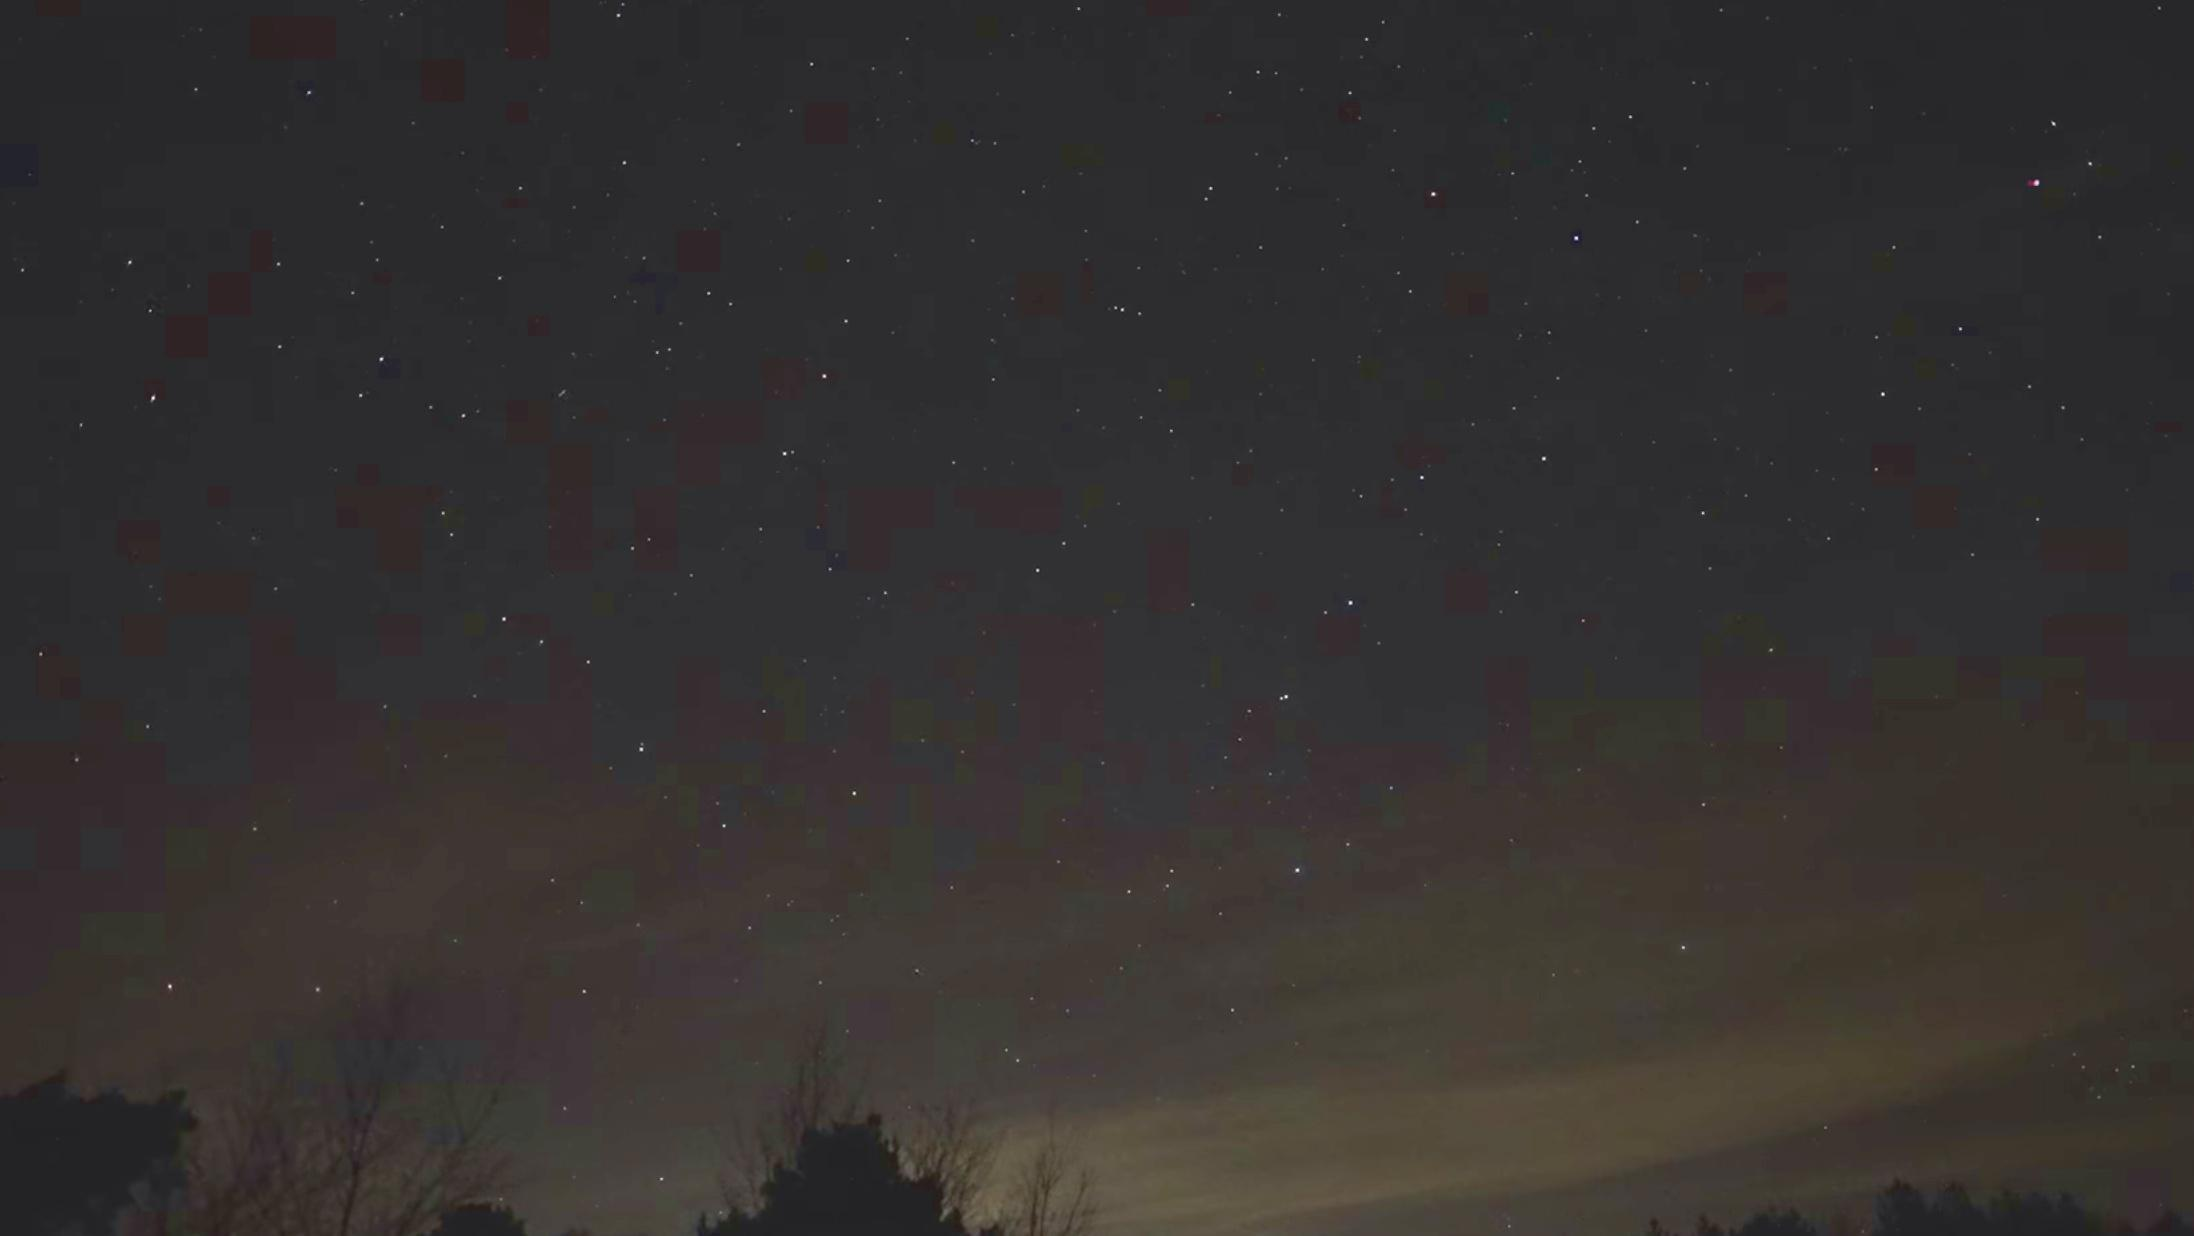Plane: (2004, 167, 2064, 205)
